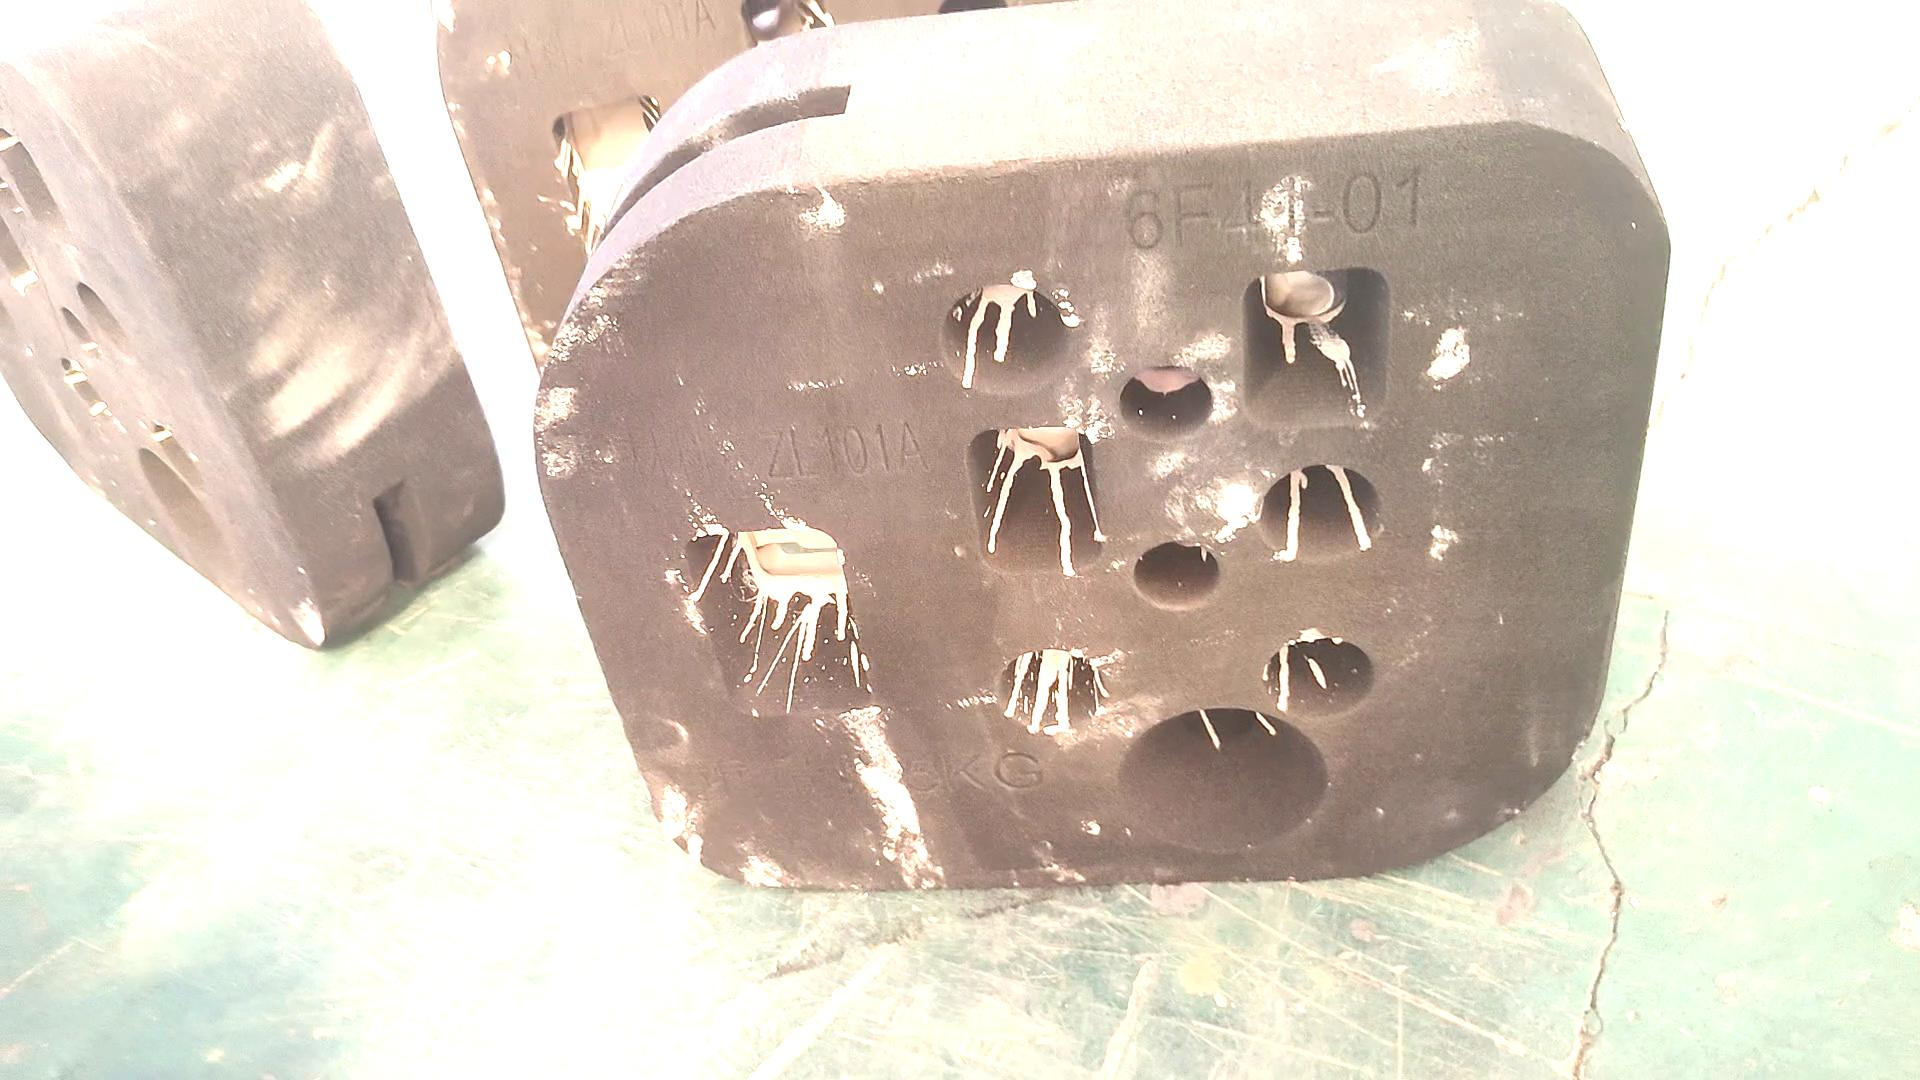pouring hole: (1112, 707, 1331, 852), (137, 446, 236, 585)
